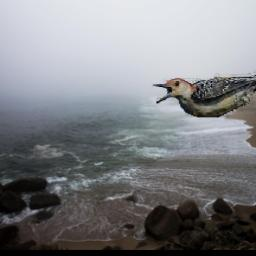Woodpecker: (151, 71, 256, 118)
